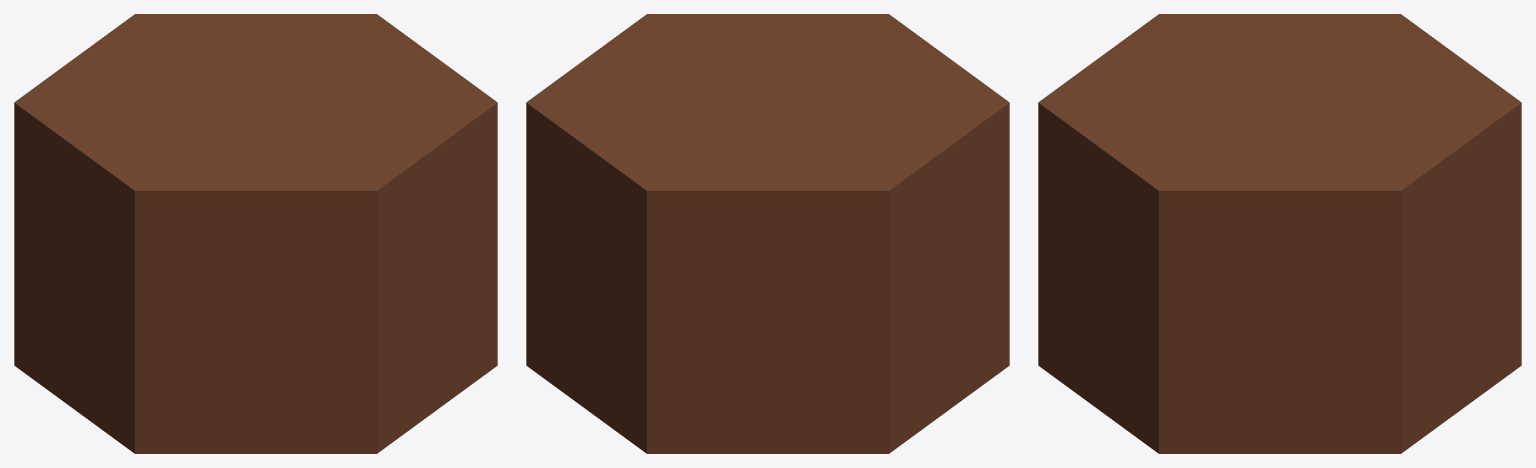
Rendered from _wooden_wall_t_3.glb.
The picture shows the model from 3 angles, left to right: view 1: azimuth 30°, elevation 25°; view 2: azimuth 150°, elevation 25°; view 3: azimuth 270°, elevation 25°; orthographic projection.
Visible parts, largest first — view 1: WoodenWallInsideTall; view 2: WoodenWallInsideTall; view 3: WoodenWallInsideTall.
Boxes of the visible parts, x1=… form: WoodenWallInsideTall: x1=14, y1=14, x2=497, y2=453; WoodenWallInsideTall: x1=526, y1=14, x2=1009, y2=453; WoodenWallInsideTall: x1=1038, y1=14, x2=1521, y2=453.
Size of the model in its own units: 1.73 by 1.2 by 2.
Materials: 1 (1 with a texture image).
